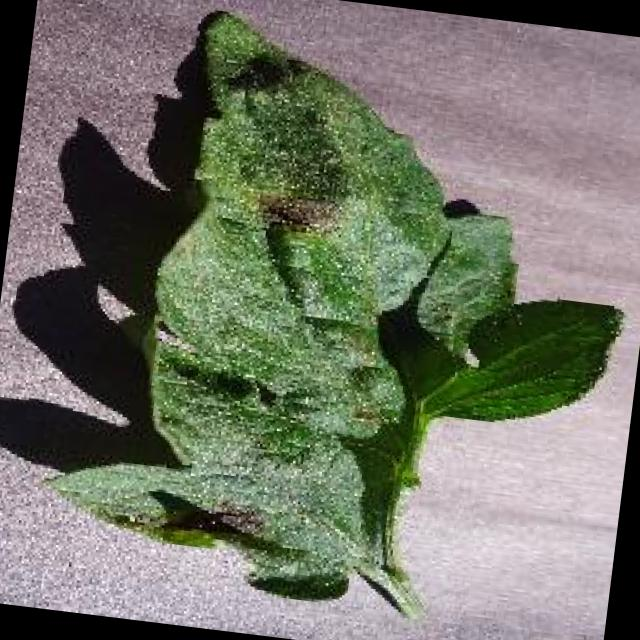Tomato_Early_Blight: (68, 0, 487, 596)
